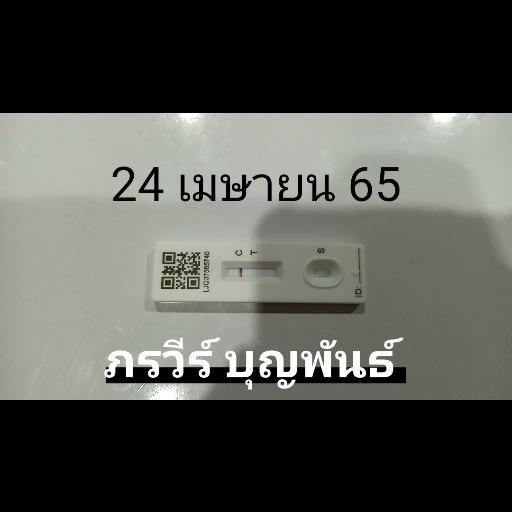Neg: (152, 242, 364, 300)
